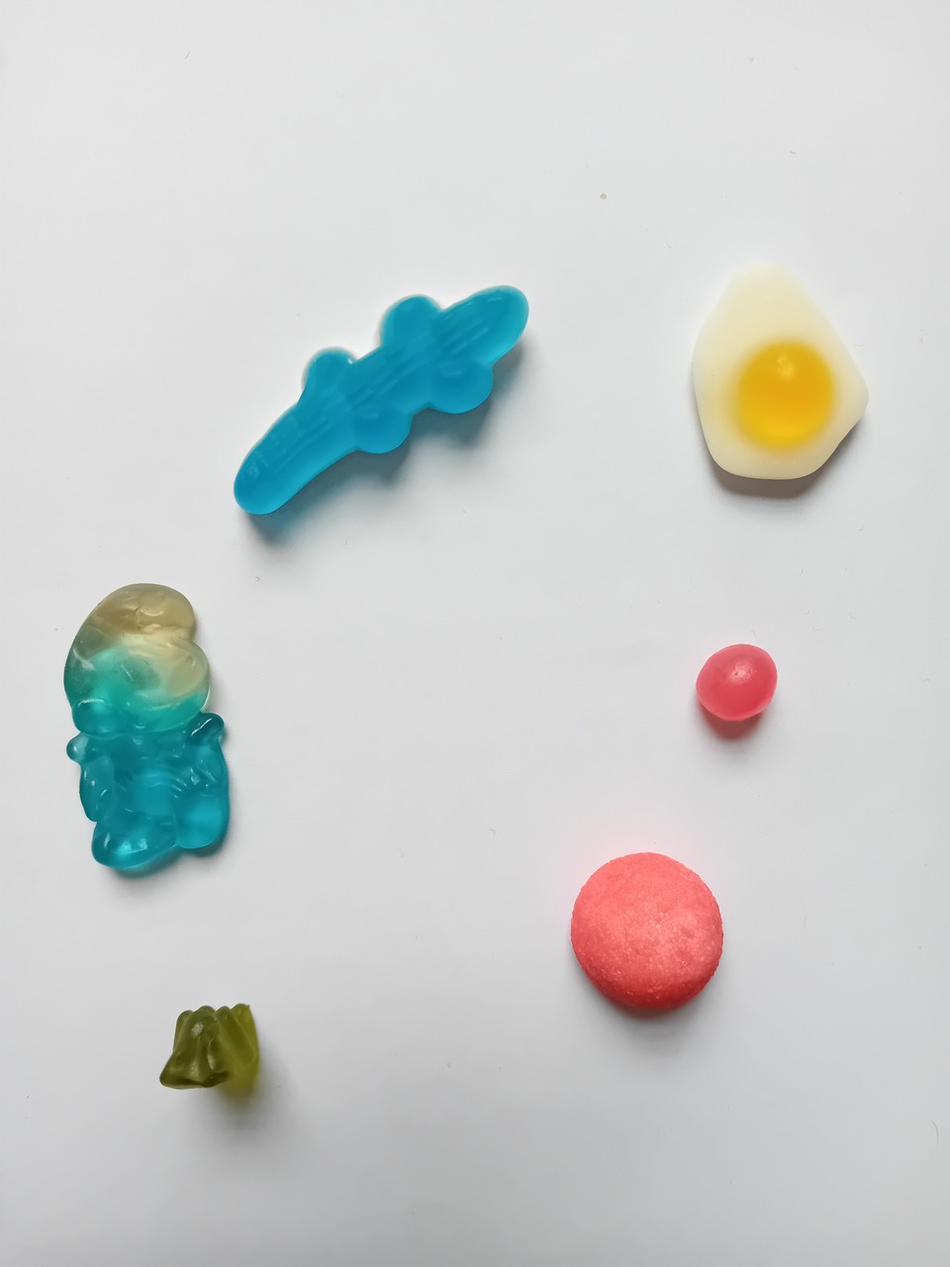crocodile_bleu: (223, 275, 533, 522)
dragibus_rouge: (691, 633, 781, 729)
oeuf_oeuf: (668, 250, 874, 488)
ourson_vert: (144, 999, 266, 1092)
schtroumpf_bleu-blanc: (50, 574, 241, 873)
tagada_fraise: (558, 849, 727, 1020)
